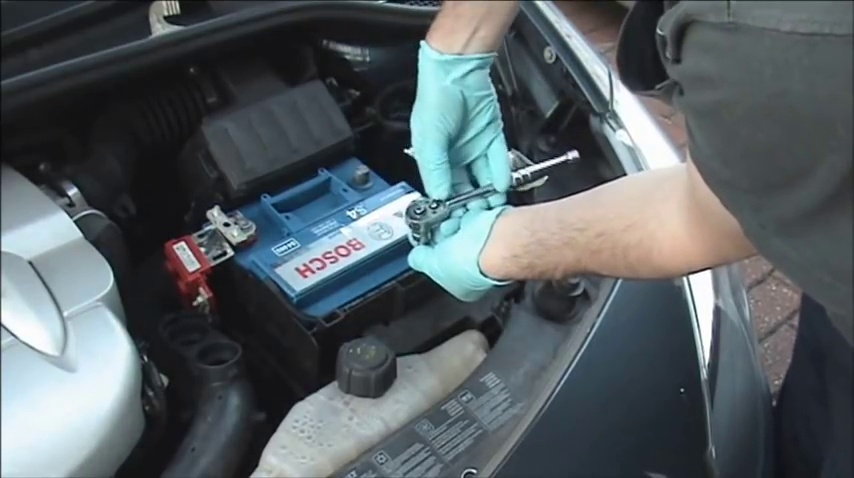battery: (203, 152, 462, 326)
neg_disconnected: (333, 154, 382, 200)
pos_connected: (145, 200, 272, 286)
